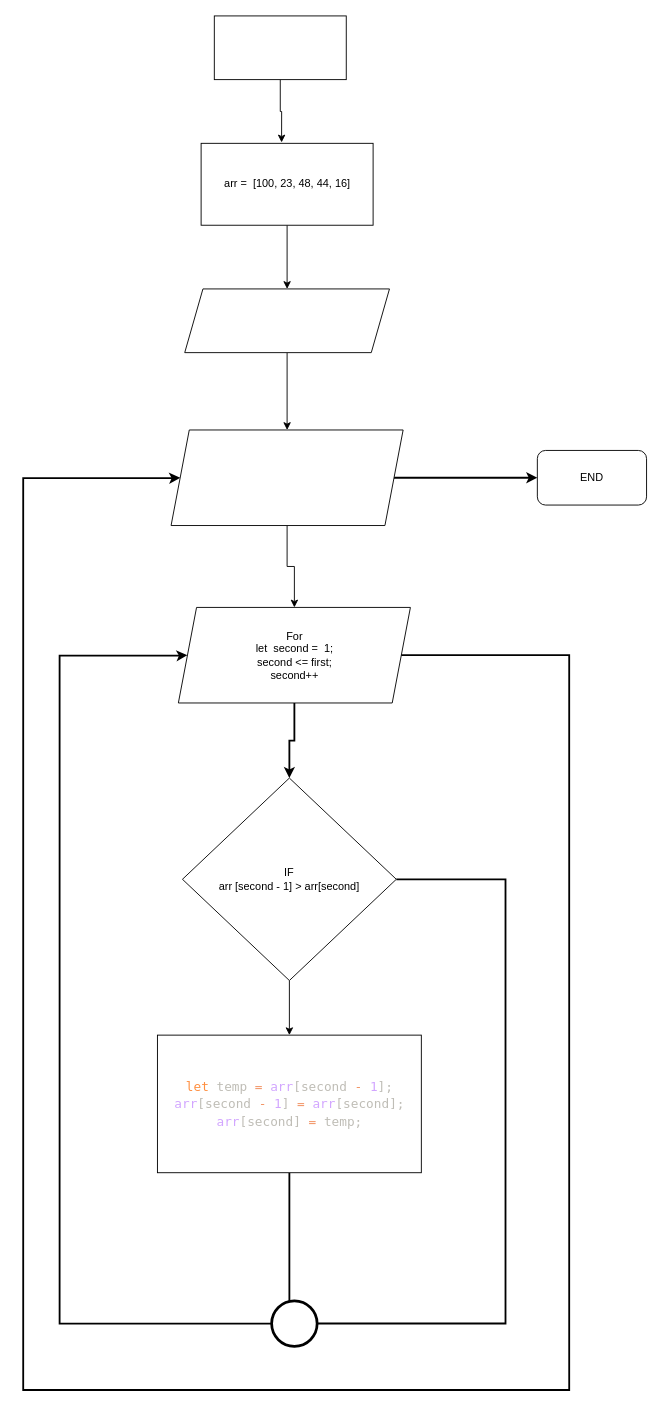
The diagram is 662 pixels wide and 1414 high, and some of its shapes have lost their labels. The shapes that lost their labels are listed below. From the top down, each one's box as (x1, y1, x2, y2) in pixels, then its label:
(213, 15, 346, 80): Start
(184, 288, 389, 353): let arrLength = arr.length
(170, 429, 403, 526): For let first = arrLength - 1; first >= 0; first--;
